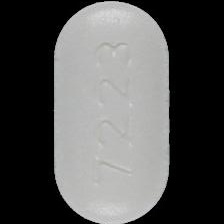0093-7223: (0, 0, 224, 224)
